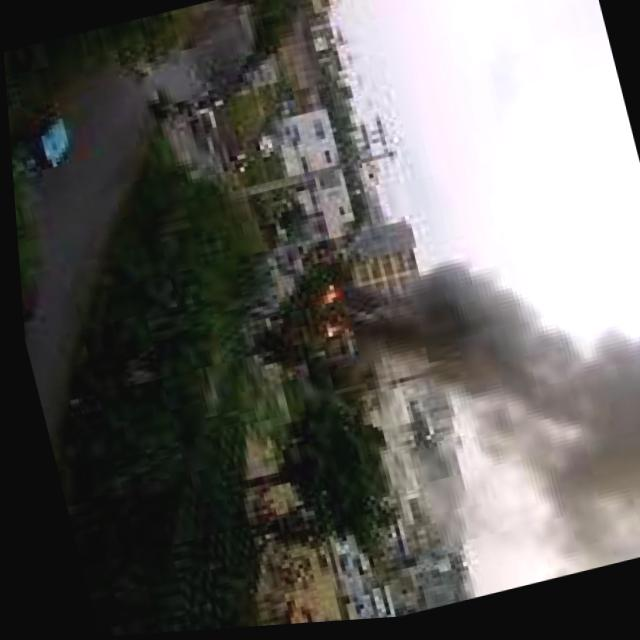smoke: (345, 227, 584, 518), (503, 325, 640, 583)
